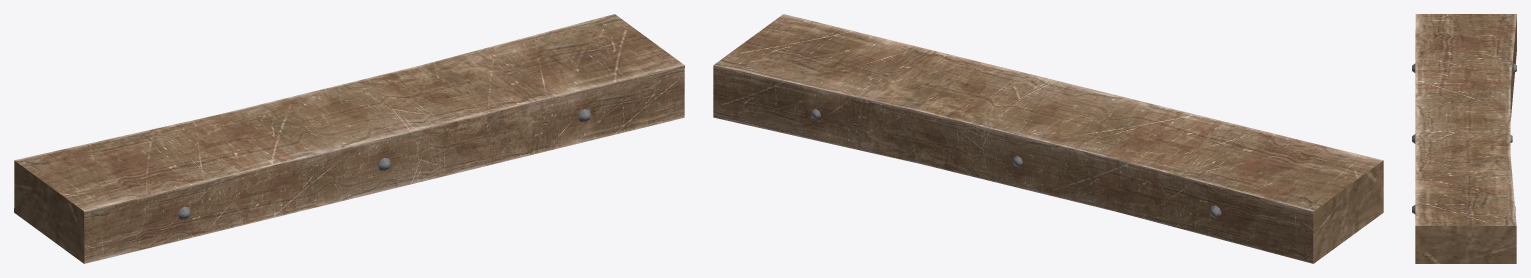
3 views of the same model, side by side, from view 1: azimuth 30°, elevation 25°; view 2: azimuth 150°, elevation 25°; view 3: azimuth 270°, elevation 25° (orthographic). The views are drawn at different scales.
Parts seen in each view (by area): view 1: SM_BB_T3_Beam_Thin_Large_Horizontal_LOD0; view 2: SM_BB_T3_Beam_Thin_Large_Horizontal_LOD0; view 3: SM_BB_T3_Beam_Thin_Large_Horizontal_LOD0.
Part boxes in pixels (x1,y1,x2,y2): SM_BB_T3_Beam_Thin_Large_Horizontal_LOD0: (14, 14, 684, 263); SM_BB_T3_Beam_Thin_Large_Horizontal_LOD0: (713, 14, 1383, 263); SM_BB_T3_Beam_Thin_Large_Horizontal_LOD0: (1412, 14, 1516, 263).
Size of the model in its own units: 3 by 0.2509 by 0.6274.
Materials: 1 (1 with a texture image).
